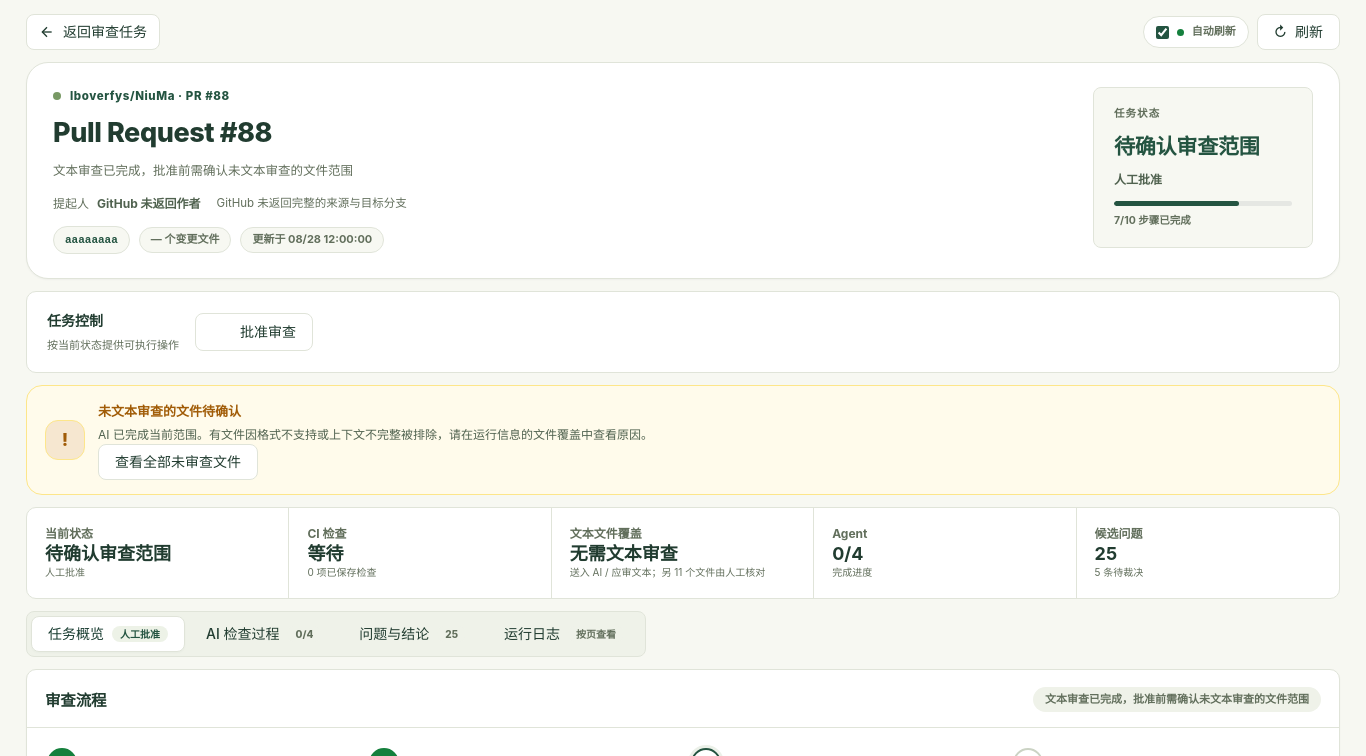
Scenario: 未审查文件支持完整分页，读取失败时不能确认批准
What coordinates should you click on to do the following:
click the button "✓ 批准审查"
I would click on:
 (254, 332)
Its box is [195,313,313,351].
(page scrolled)
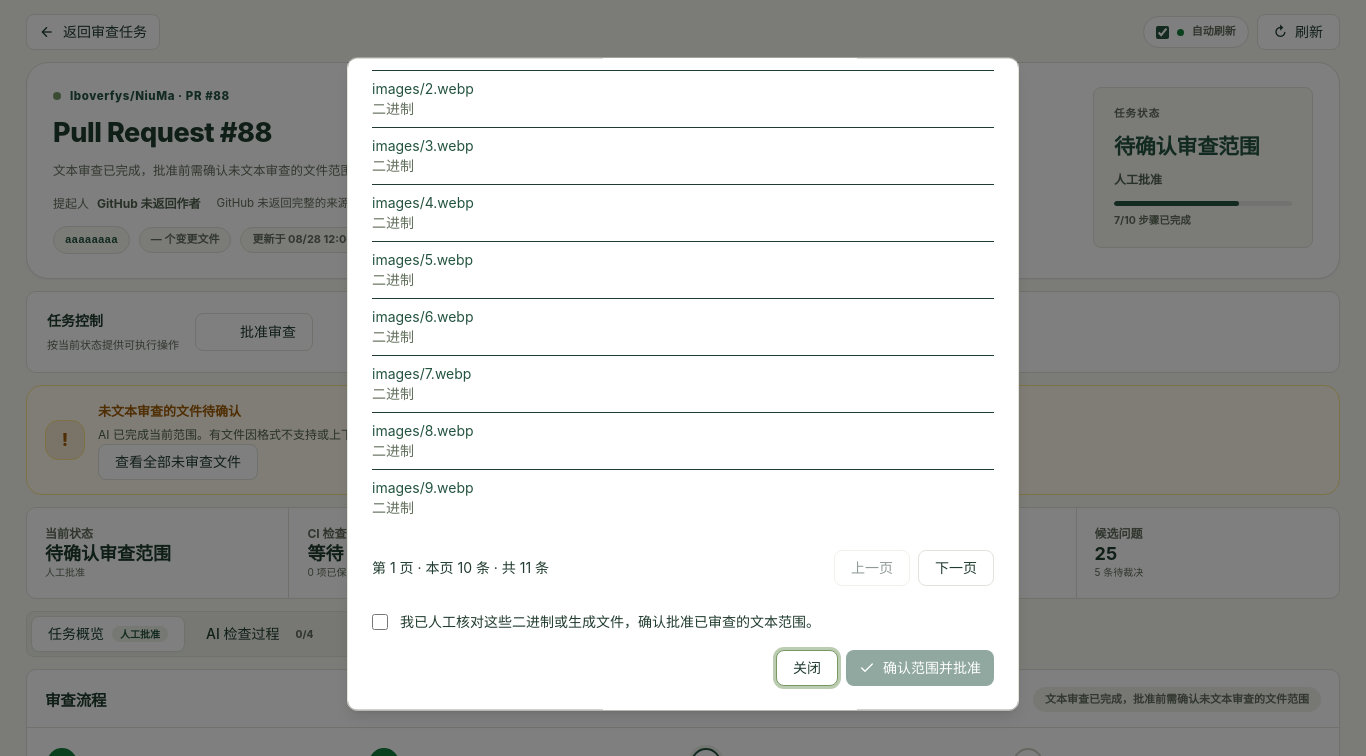
What coordinates should you click on to do the following:
click the button "下一页"
I would click on:
 (956, 568)
Its box is [918,550,994,586].
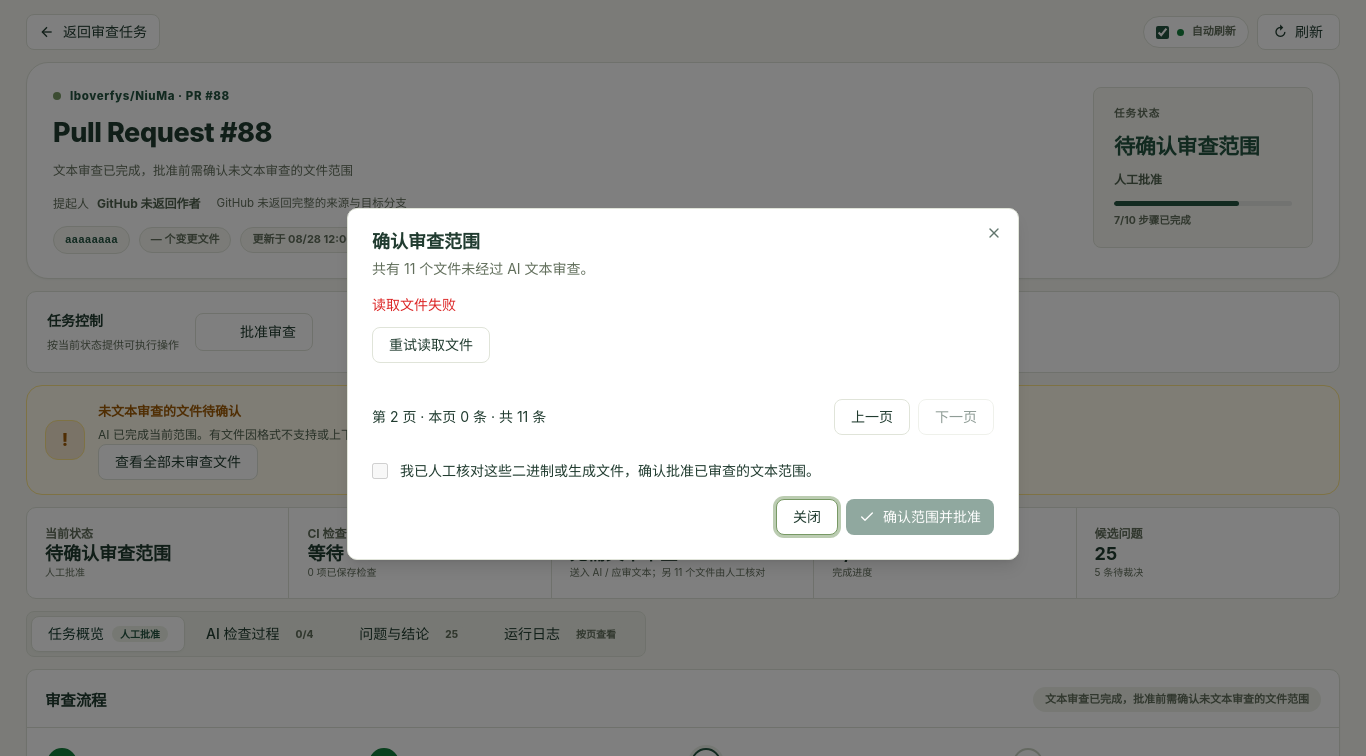
expect the button "确认范围并批准" is disabled: met, box [846,499,994,535]
expect the text "读取文件失败" is shown: met, box [372,296,456,313]
